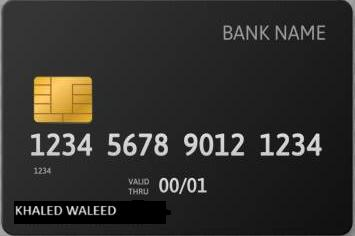payment_card: (1, 1, 355, 236)
